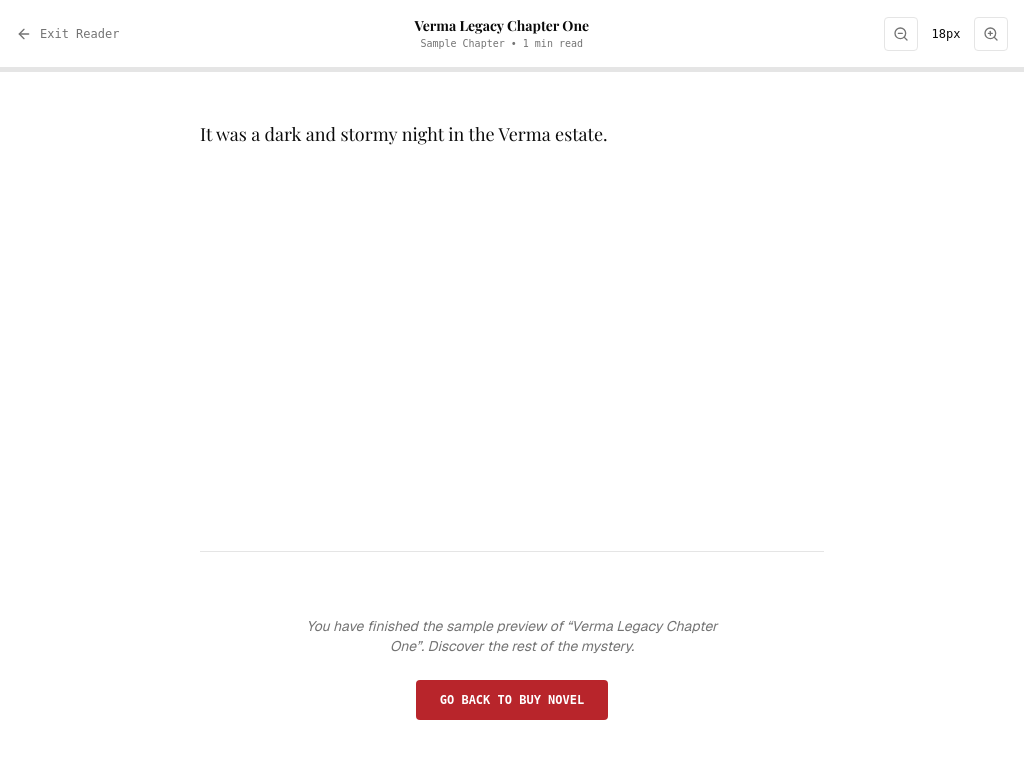
Scenario: SampleReader Component › renders sample title, word counts, and handles font scaling toggles
This screenshot has width=1024, height=768.
Check: the heading "Verma Legacy Chapter One" is shown, box [414, 16, 589, 36]
Check: the text "18px" is shown, box [930, 26, 962, 42]
// Increase font size
Click the button named "increase text size" at [991, 34], box [974, 16, 1008, 50]
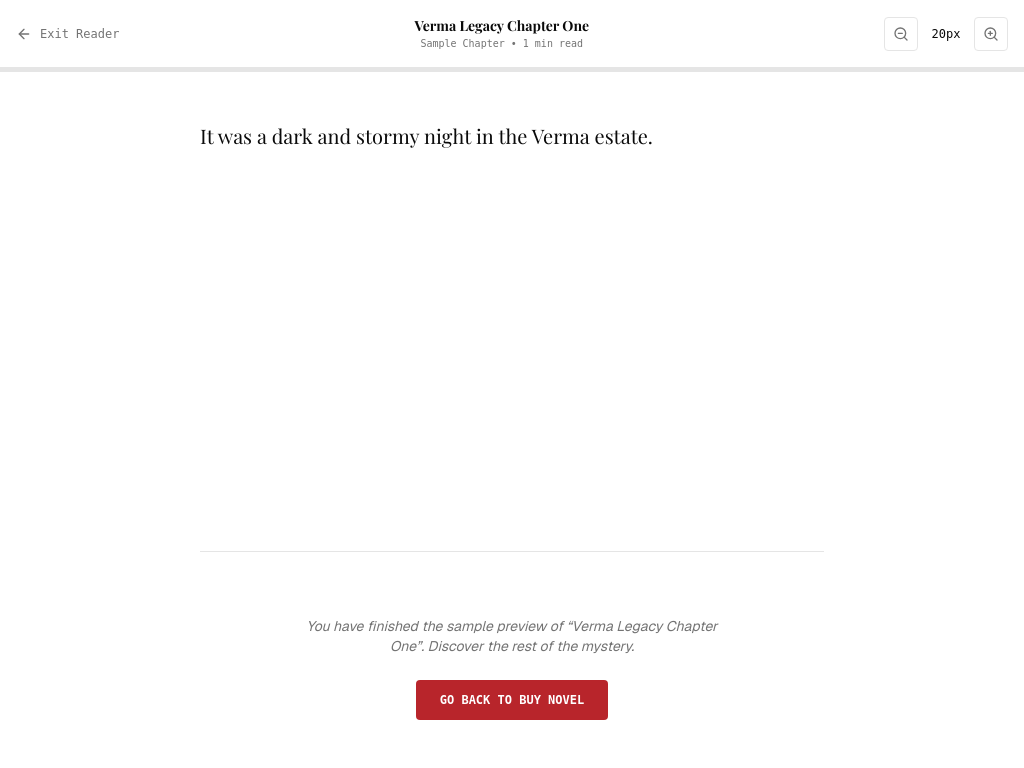
Check: the text "20px" is shown, box [930, 26, 962, 42]
// Decrease font size
Click the button named "decrease text size" at [901, 34], box [884, 16, 918, 50]
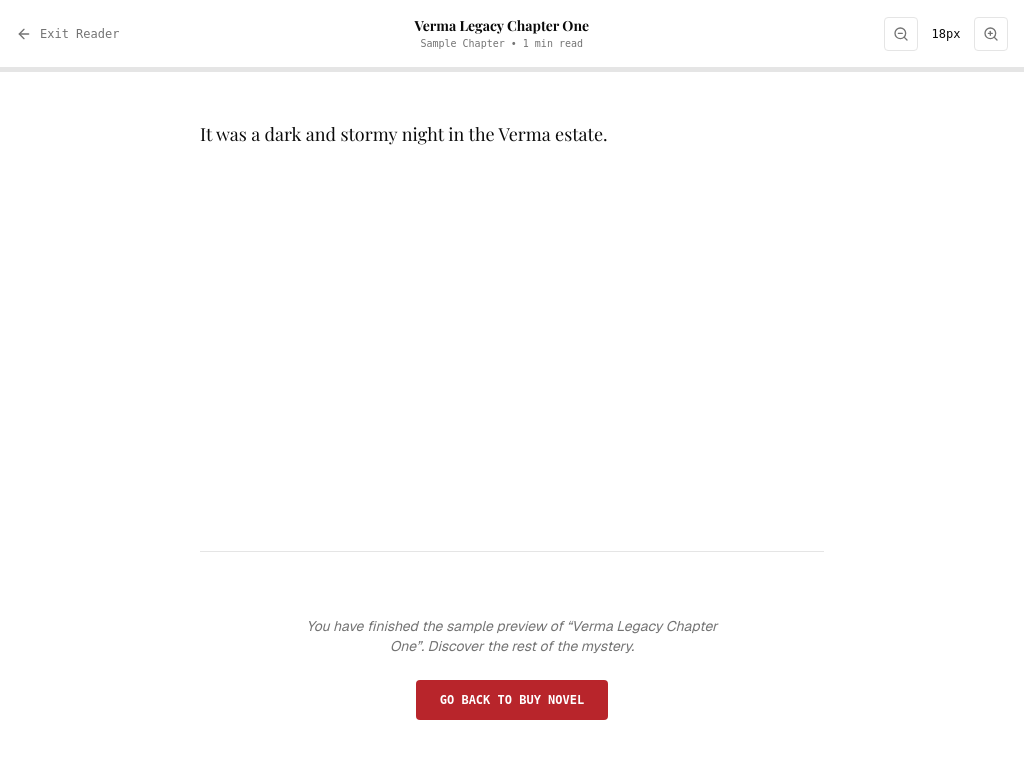
Check: the text "18px" is shown, box [930, 26, 962, 42]
